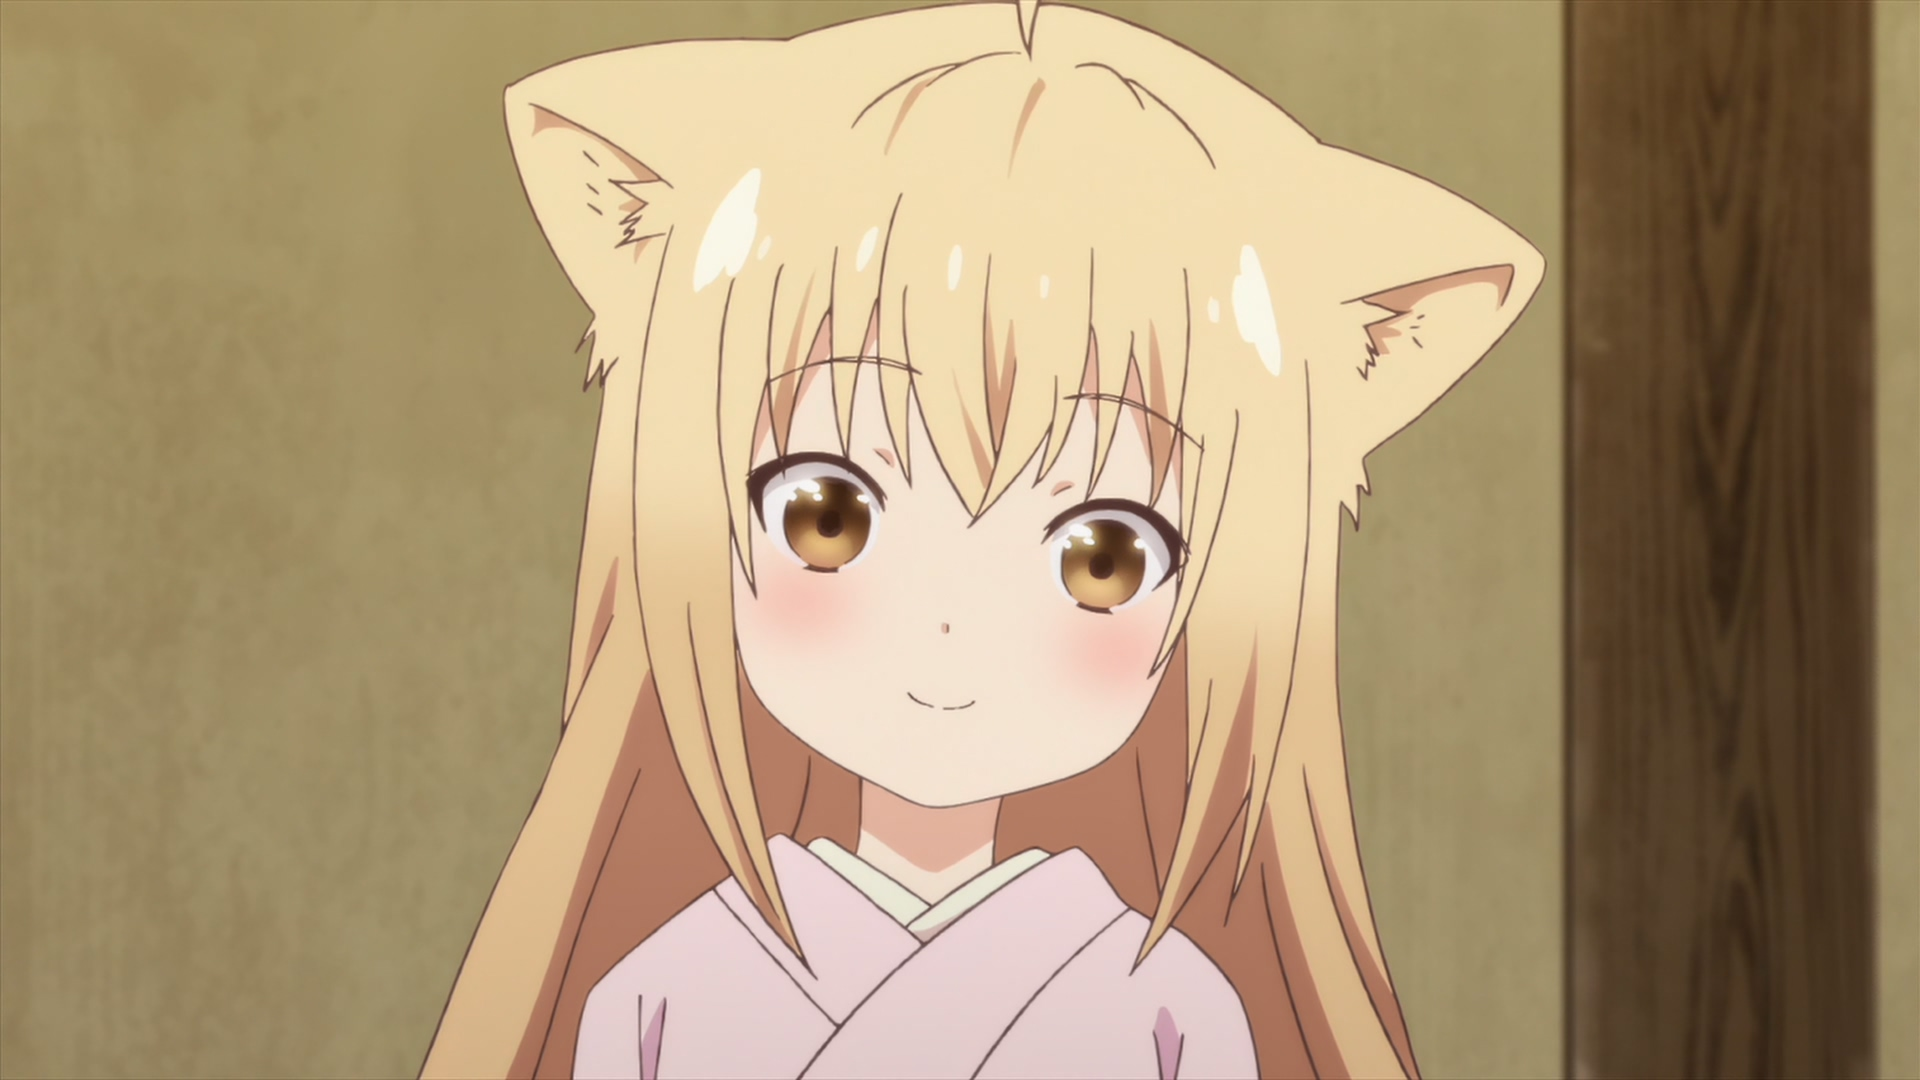柚: (421, 1, 1548, 1080)
